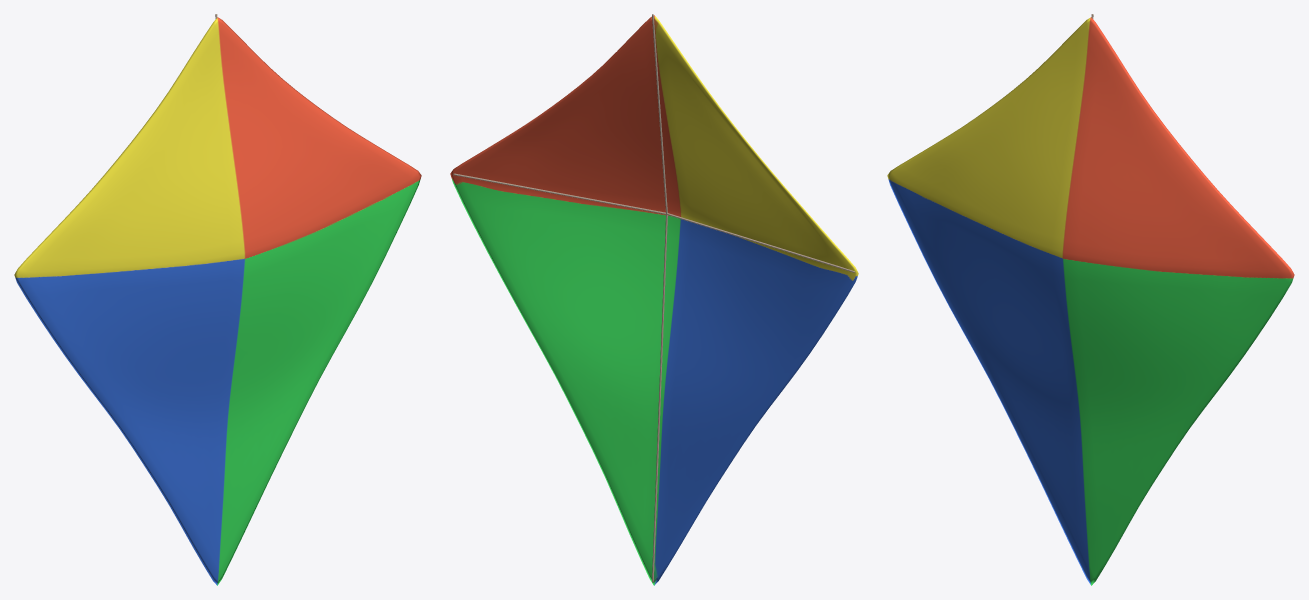
Rendered from kite2.fbx.
3 views of the same model, side by side, from view 1: azimuth 30°, elevation 25°; view 2: azimuth 150°, elevation 25°; view 3: azimuth 330°, elevation 25° (orthographic).
Visible parts, largest first — view 1: Plane; view 2: Plane; view 3: Plane.
Part boxes in pixels (x1,y1,x2,y2): Plane: [14, 14, 421, 585]; Plane: [450, 14, 858, 585]; Plane: [887, 14, 1294, 585].
Size of the model in its own units: 147 by 196 by 18.59.
Materials: 2 (2 with a texture image).
